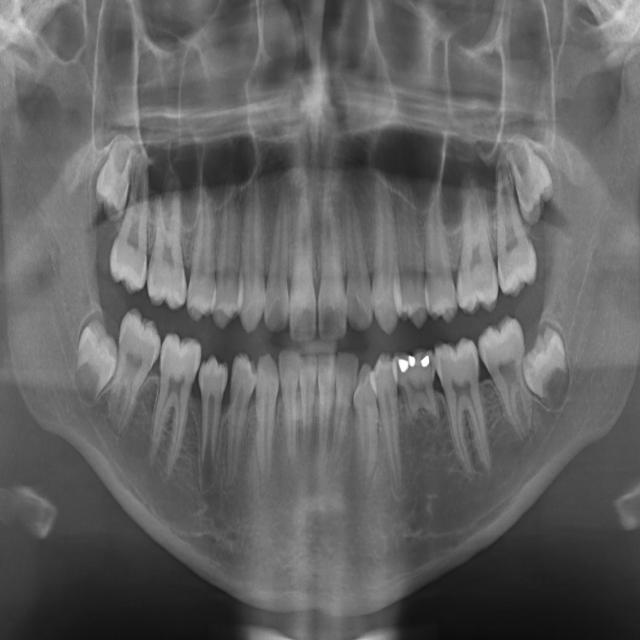AmalgamRestoration: (396, 351, 408, 376), (420, 349, 432, 371), (409, 351, 417, 372)
DentalCaries: (428, 356, 437, 382)
